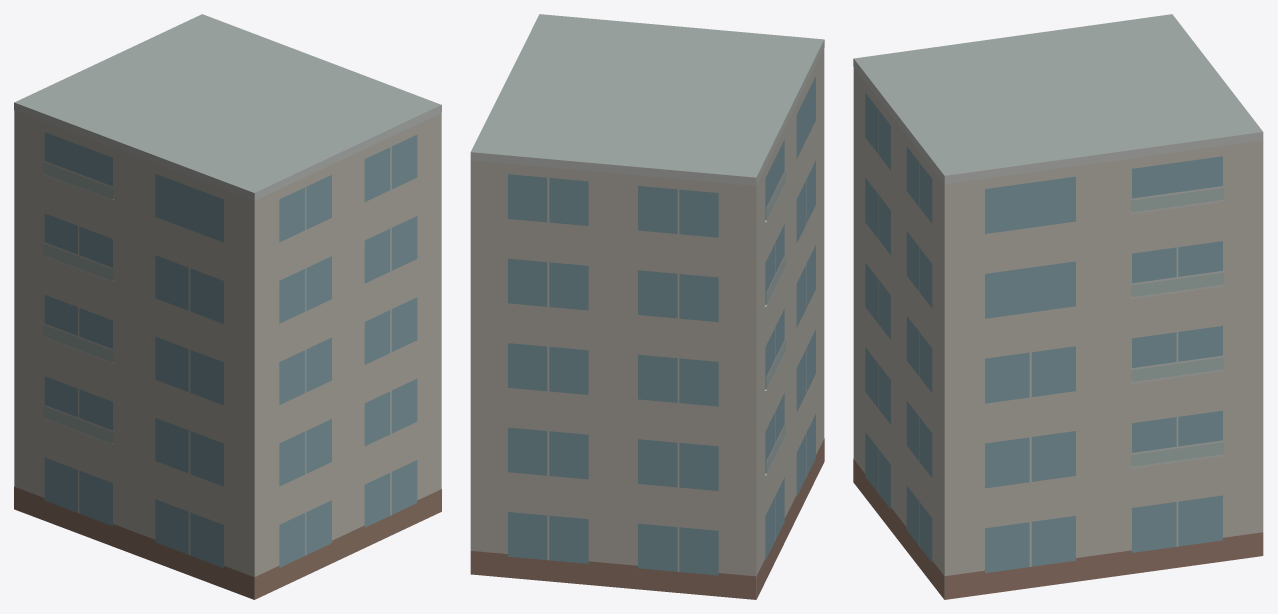
Rendered from survey-upis-32560914.glb.
The picture shows the model from 3 angles, left to right: view 1: azimuth 30°, elevation 25°; view 2: azimuth 150°, elevation 25°; view 3: azimuth 270°, elevation 25°; orthographic projection. The views are drawn at different scales.
Parts seen in each view (by area): view 1: survey-upis-32560914.tmp; view 2: survey-upis-32560914.tmp; view 3: survey-upis-32560914.tmp.
Part boxes in pixels (x1,y1,x2,y2): survey-upis-32560914.tmp: (14,14,441,599); survey-upis-32560914.tmp: (470,14,824,599); survey-upis-32560914.tmp: (853,14,1263,599).
Bounding box in the file's own units: 10.2 × 12.45 × 10.91.
